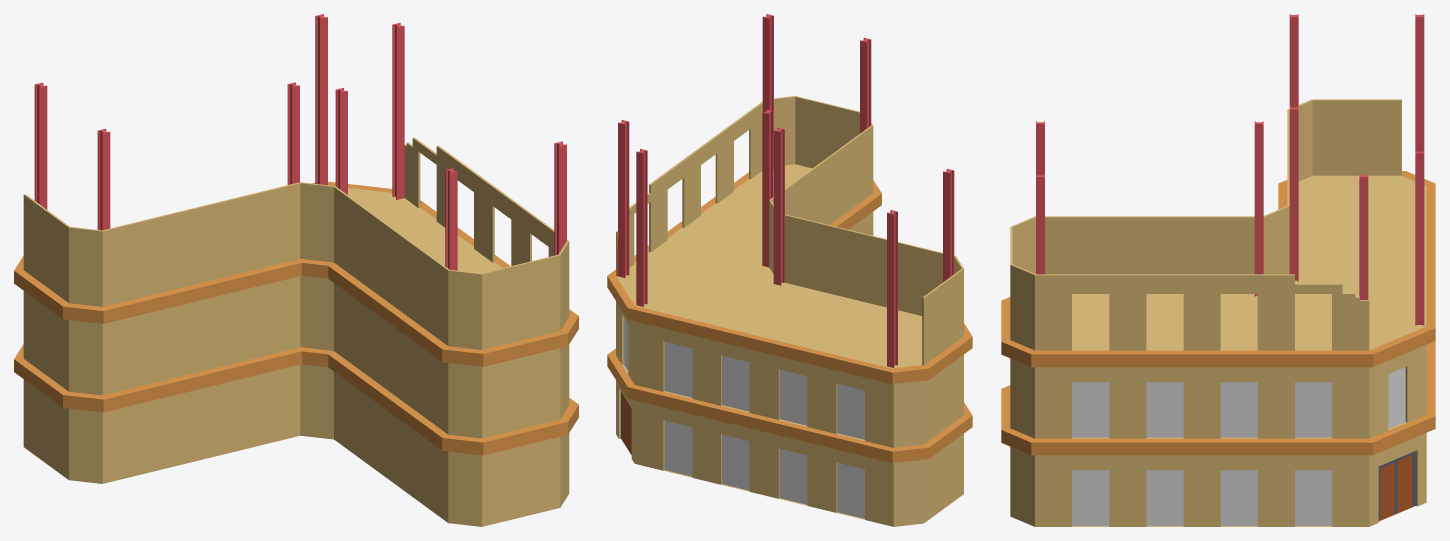
3 renders of one model, left to right at view 1: azimuth 30°, elevation 25°; view 2: azimuth 150°, elevation 25°; view 3: azimuth 270°, elevation 25°, orthographic. The views are drawn at different scales.
Parts seen in each view (by area): view 1: Predio 6 A.002; view 2: Predio 6 A.002; view 3: Predio 6 A.002.
Part boxes in pixels (bbox=[...]): Predio 6 A.002: bbox=[14, 14, 578, 526]; Predio 6 A.002: bbox=[607, 14, 972, 526]; Predio 6 A.002: bbox=[1001, 14, 1435, 526].
Size of the model in its own units: 8946 by 7913 by 8946.
